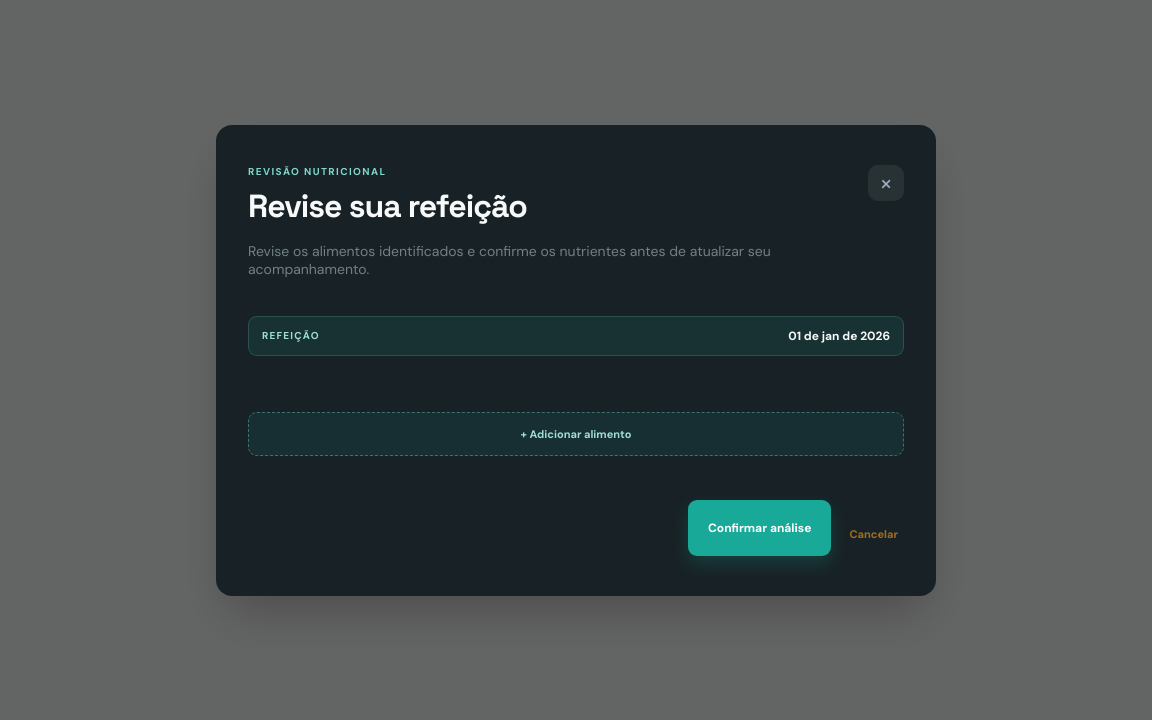
Scenario: MealAnalysisForm › permite adicionar e remover um alimento
Step 1. Click the button "+ Adicionar alimento" → (576, 434), box [248,412,904,456]
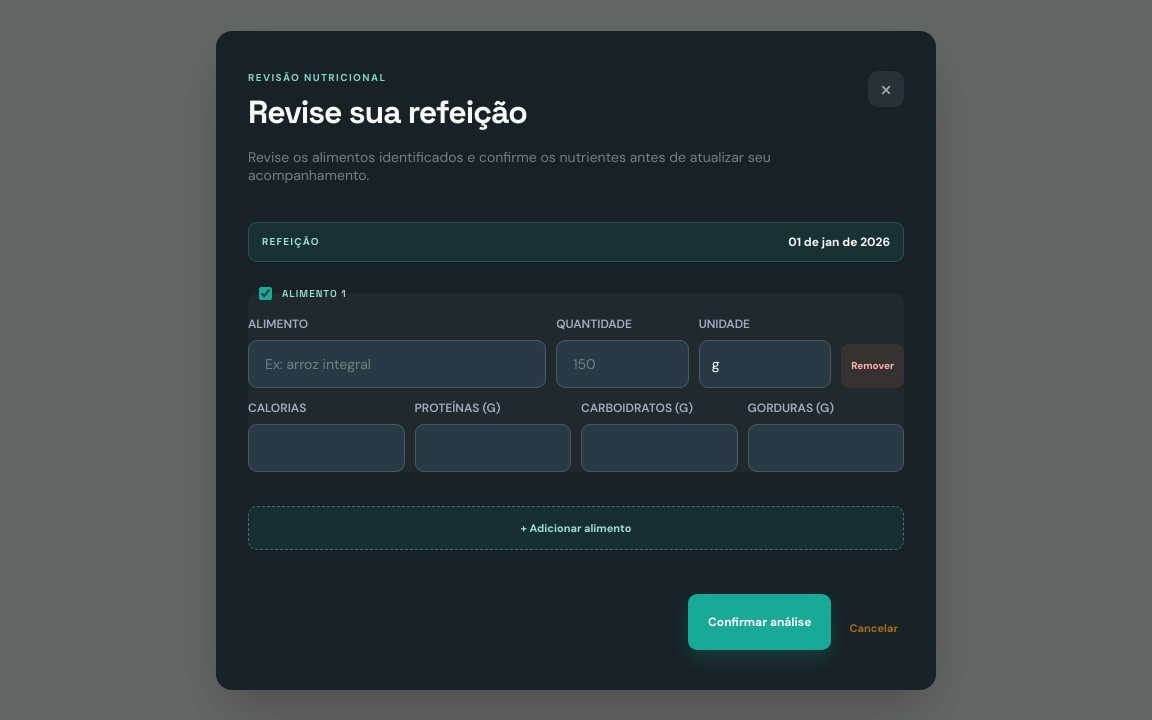
Expected: the text "Alimento 1" is shown, [255,284,347,302]
Step 2. Click the button with aria-label "Remover alimento 1" → (873, 366), box [841,344,904,388]
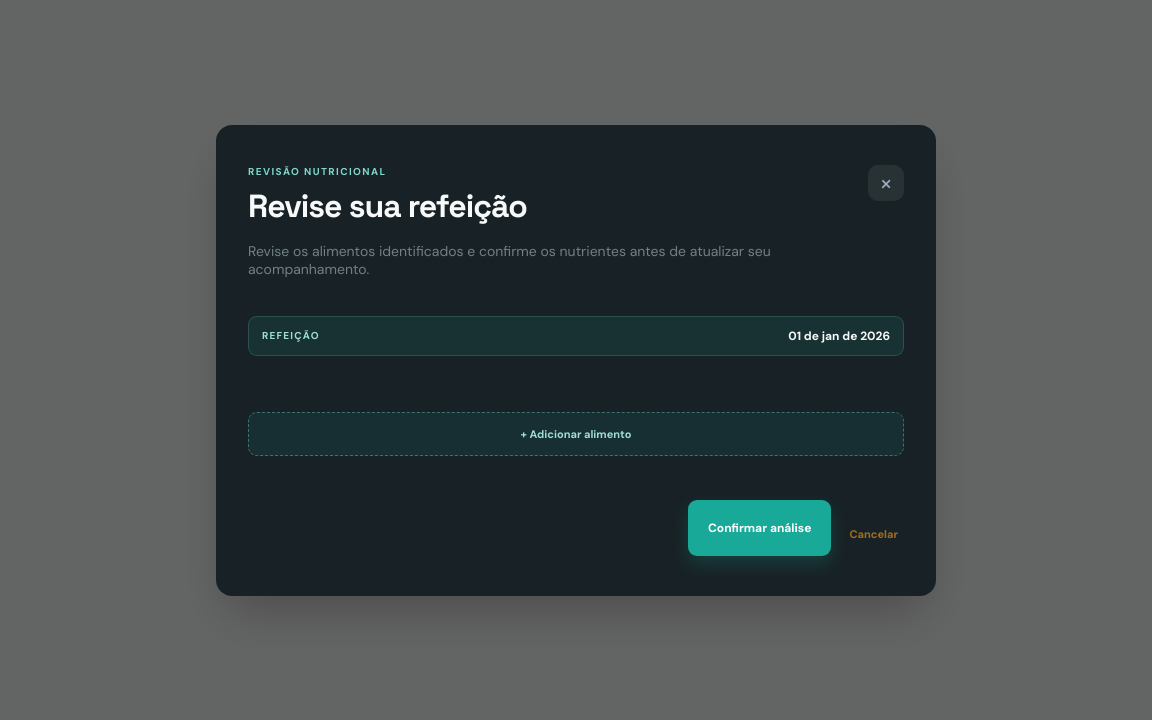
Expected: the text "Alimento 1" is gone
